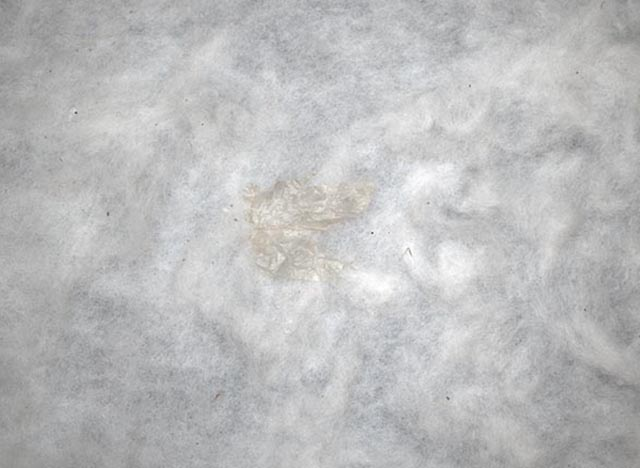plastic film: (241, 173, 370, 283)
